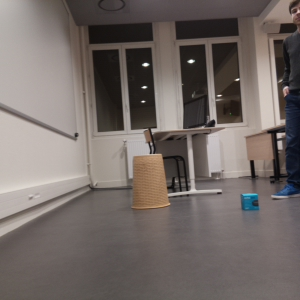medium: (132, 154, 170, 209)
small: (240, 193, 260, 210)
